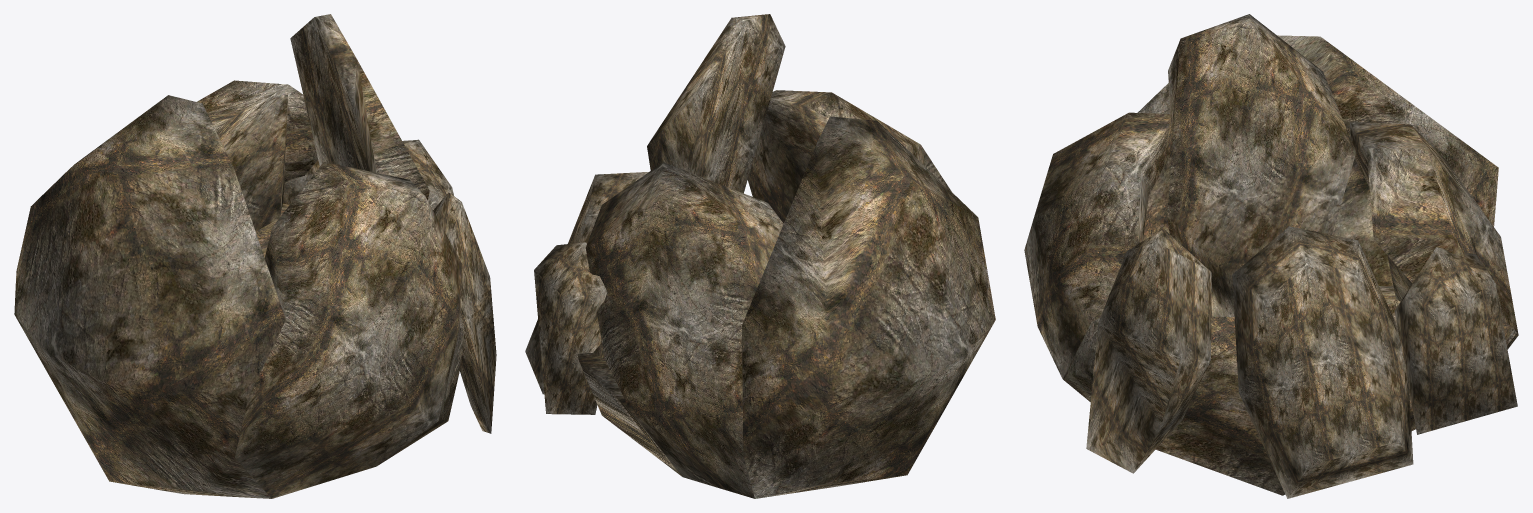
The model's file is poi_all_lair_rock_shelter_large_l2.fbx.
3 renders of one model, left to right at view 1: azimuth 30°, elevation 25°; view 2: azimuth 150°, elevation 25°; view 3: azimuth 270°, elevation 25°, orthographic. The views are drawn at different scales.
Visible parts, largest first — view 1: mesh_node; view 2: mesh_node; view 3: mesh_node.
Boxes of the visible parts, x1=… form: mesh_node: x1=14, y1=14, x2=496, y2=498; mesh_node: x1=525, y1=14, x2=995, y2=498; mesh_node: x1=1024, y1=14, x2=1518, y2=498.
Bounding box in the file's own units: 4.45 × 4.43 × 4.25.
